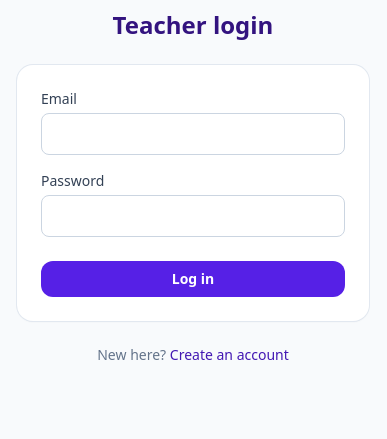
Test: Login page › shows the server's error message on failed login
The image size is (387, 439).
Type "wrong@example.com" into the field labelled "Email" at (193, 134), box [41,113,345,155]
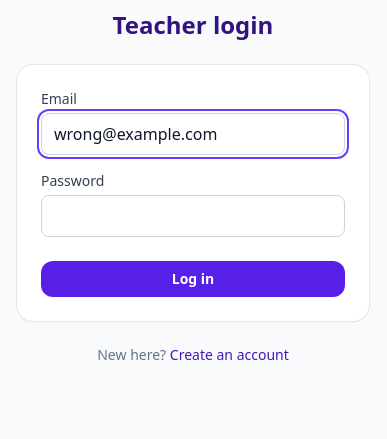
Type "wrongpassword" into the password field labelled "Password" at (193, 216), box [41,195,345,237]
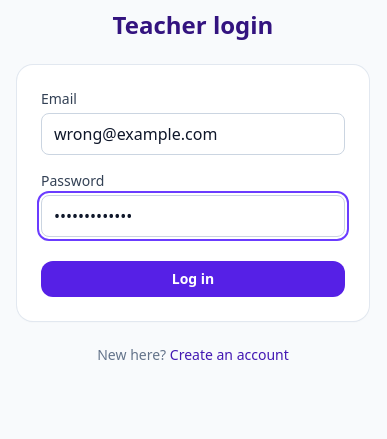
Click the button "Log in" at (193, 279), box [41,261,345,297]
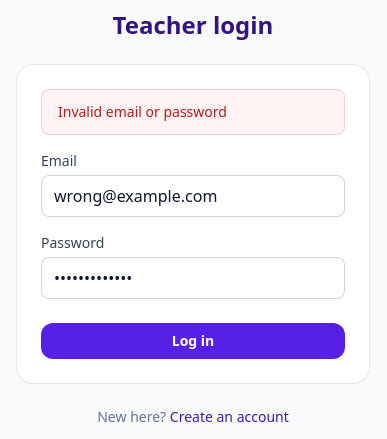
Expected: the message reads "Invalid email or password", [58,102,227,121]
